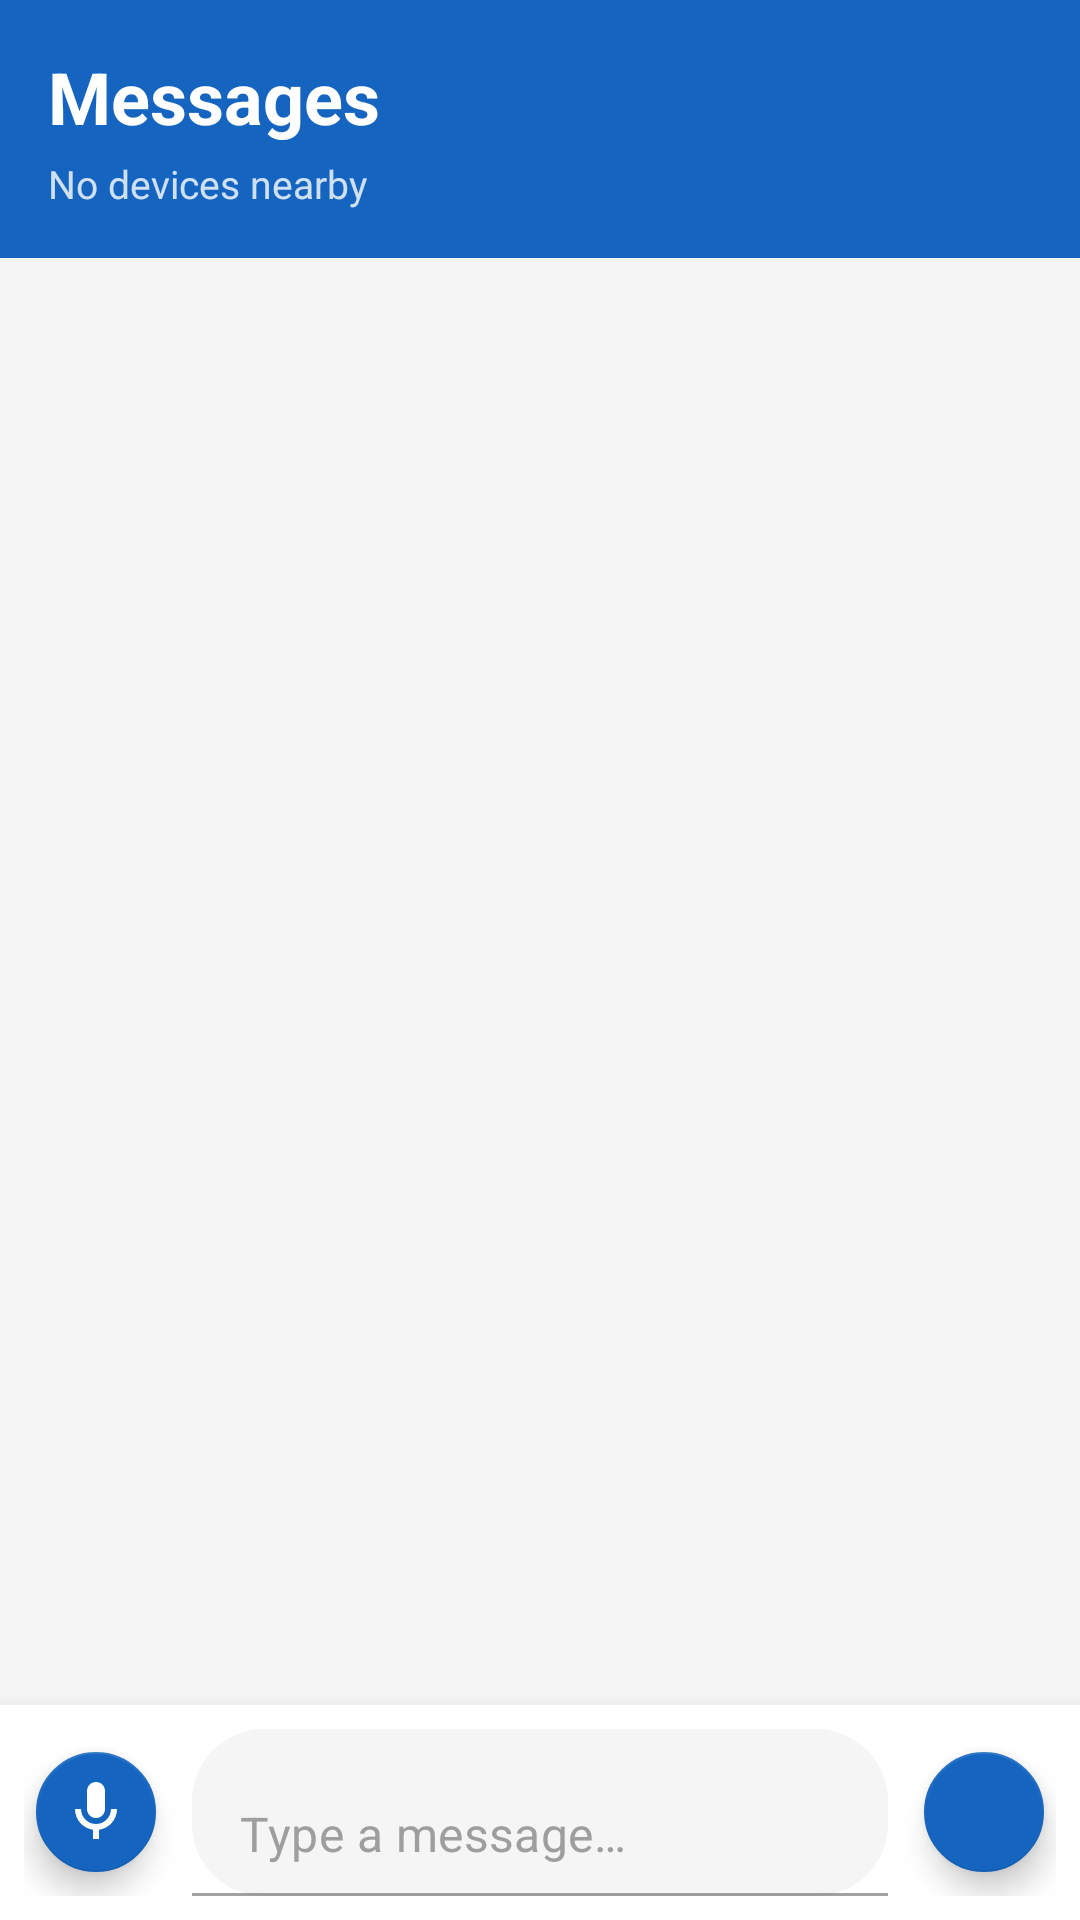

Named icons in this screenshot (1080×1920) and their centers, (x=x, y=y):
Record Voice: (x=95, y=1818)
